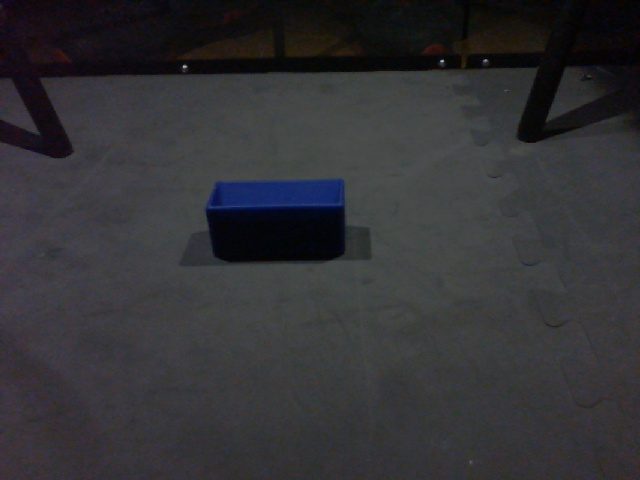BlueSample: (201, 177, 352, 262)
